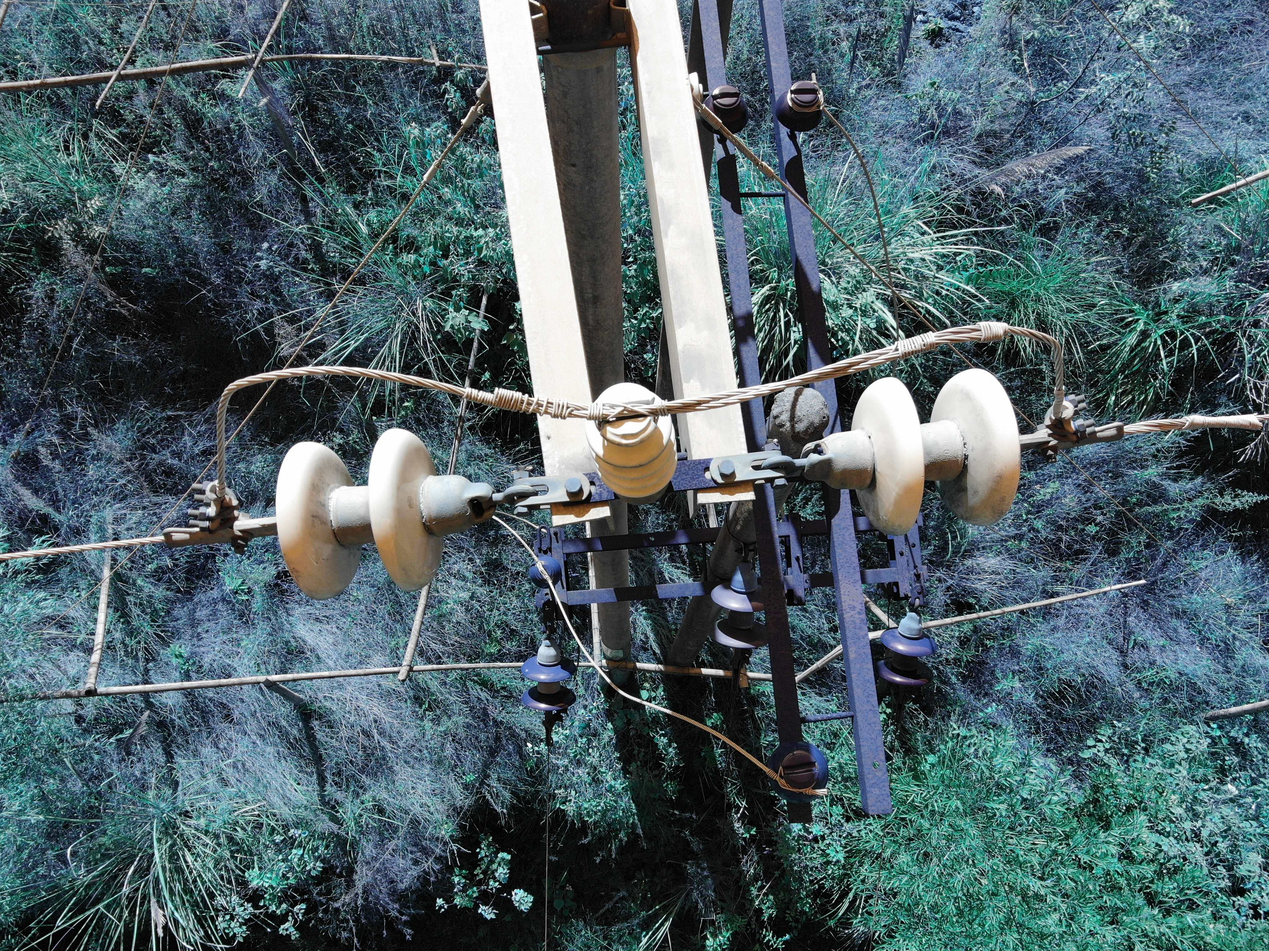severe_soiling_no_discharge_whole: (795, 360, 1029, 542)
